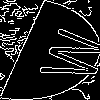W: (25, 25, 100, 84)
